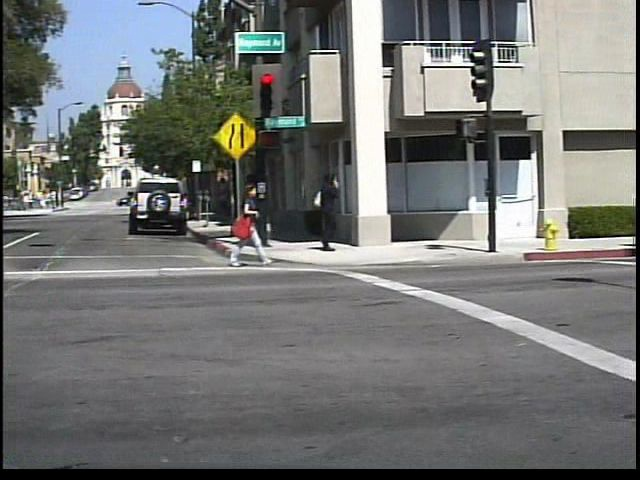person: (232, 177, 282, 269), (312, 168, 353, 254)
